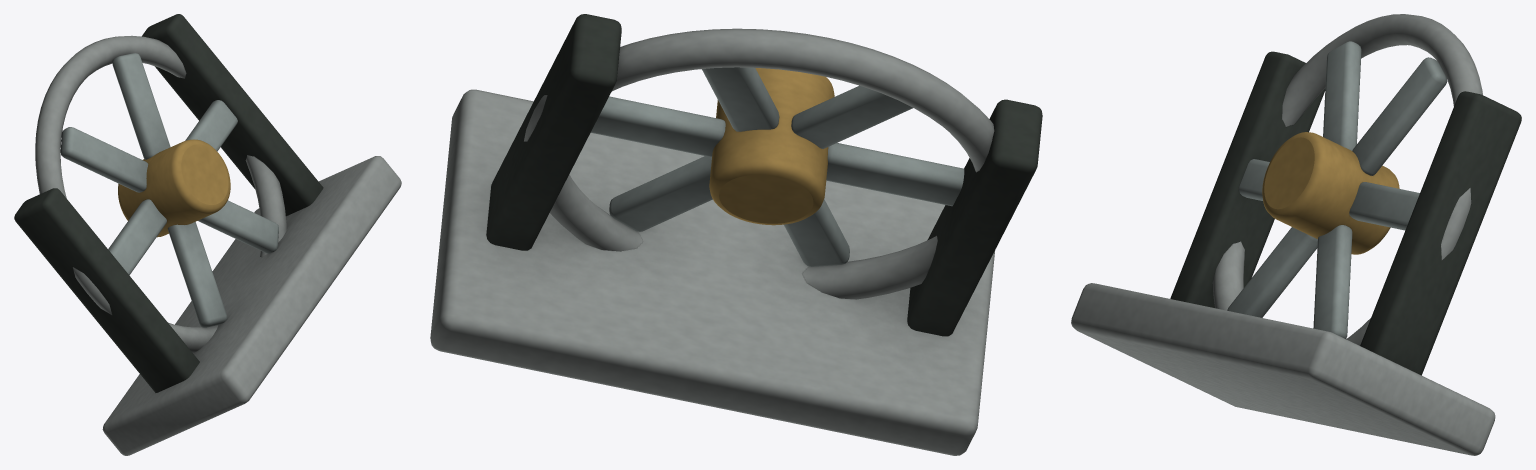
The picture shows the model from 3 angles, left to right: view 1: azimuth 30°, elevation 25°; view 2: azimuth 150°, elevation 25°; view 3: azimuth 270°, elevation 25°; orthographic projection. The views are drawn at different scales.
Parts seen in each view (by area): view 1: Bolted mechanical base; view 2: Bolted mechanical base; view 3: Bolted mechanical base.
Boxes of the visible parts, x1,y1,x2,y2 form: Bolted mechanical base: (14,14,401,455); Bolted mechanical base: (430,14,1042,455); Bolted mechanical base: (1071,14,1521,455).
Bounding box in the file's own units: 1.38 × 1.13 × 1.14.
Materials: 1 (1 with a texture image).
